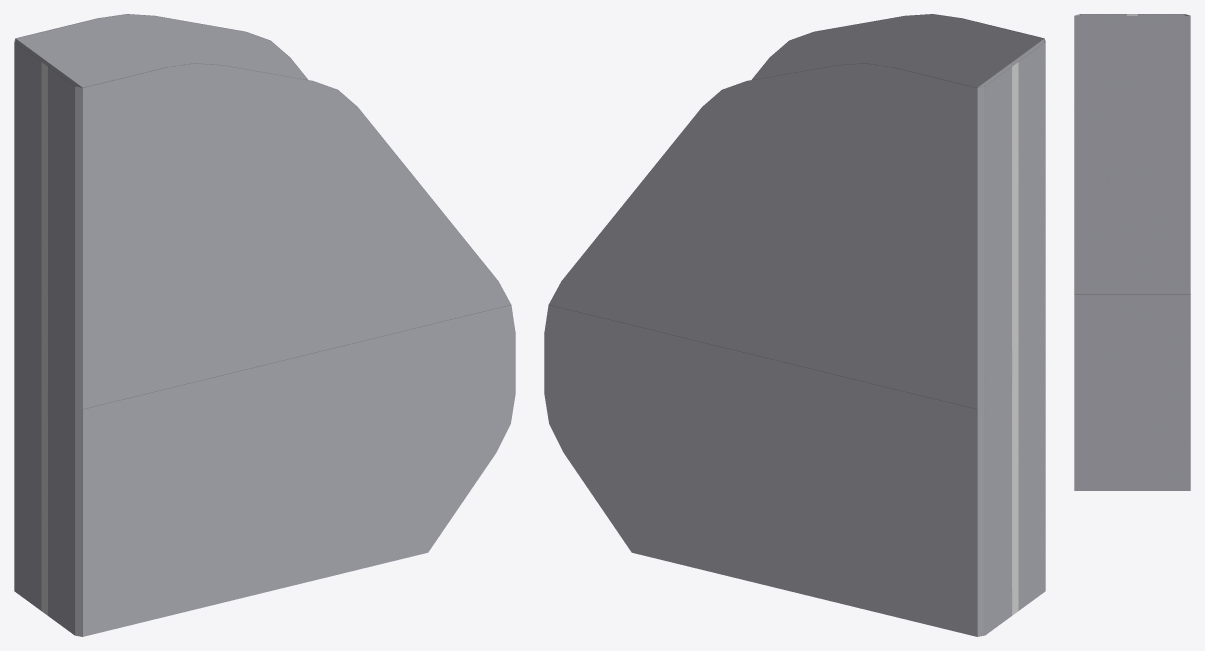
The model's file is Wall_Interior_01.FBX.
3 views of the same model, side by side, from view 1: azimuth 30°, elevation 25°; view 2: azimuth 150°, elevation 25°; view 3: azimuth 270°, elevation 25° (orthographic). The views are drawn at different scales.
Visible parts, largest first — view 1: Wall_Interior_01; view 2: Wall_Interior_01; view 3: Wall_Interior_01.
Part boxes in pixels (x1=…): Wall_Interior_01: x1=14, y1=14, x2=515, y2=636; Wall_Interior_01: x1=544, y1=14, x2=1045, y2=636; Wall_Interior_01: x1=1074, y1=14, x2=1190, y2=490.
Size of the model in its own units: 7.5 by 9 by 2.
2 materials, 2 textured.
